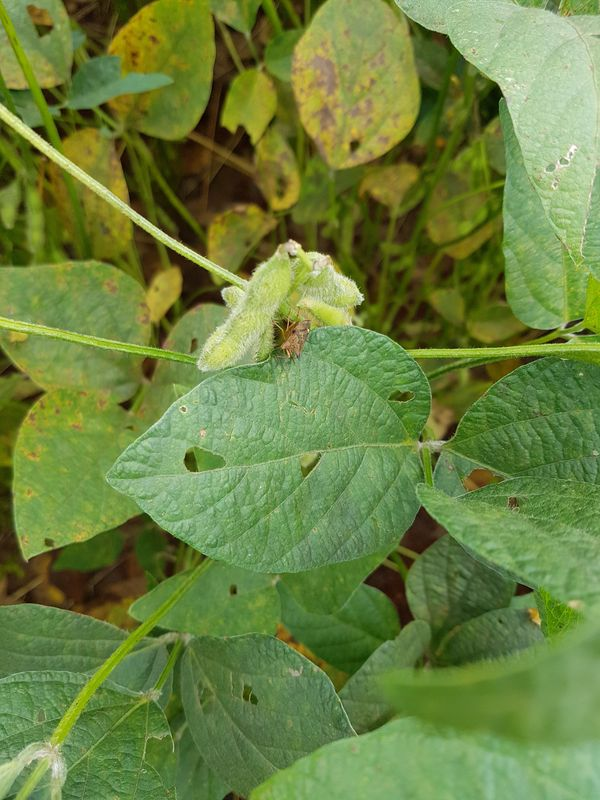Euschistus_heros_adulto: (262, 301, 324, 369)
